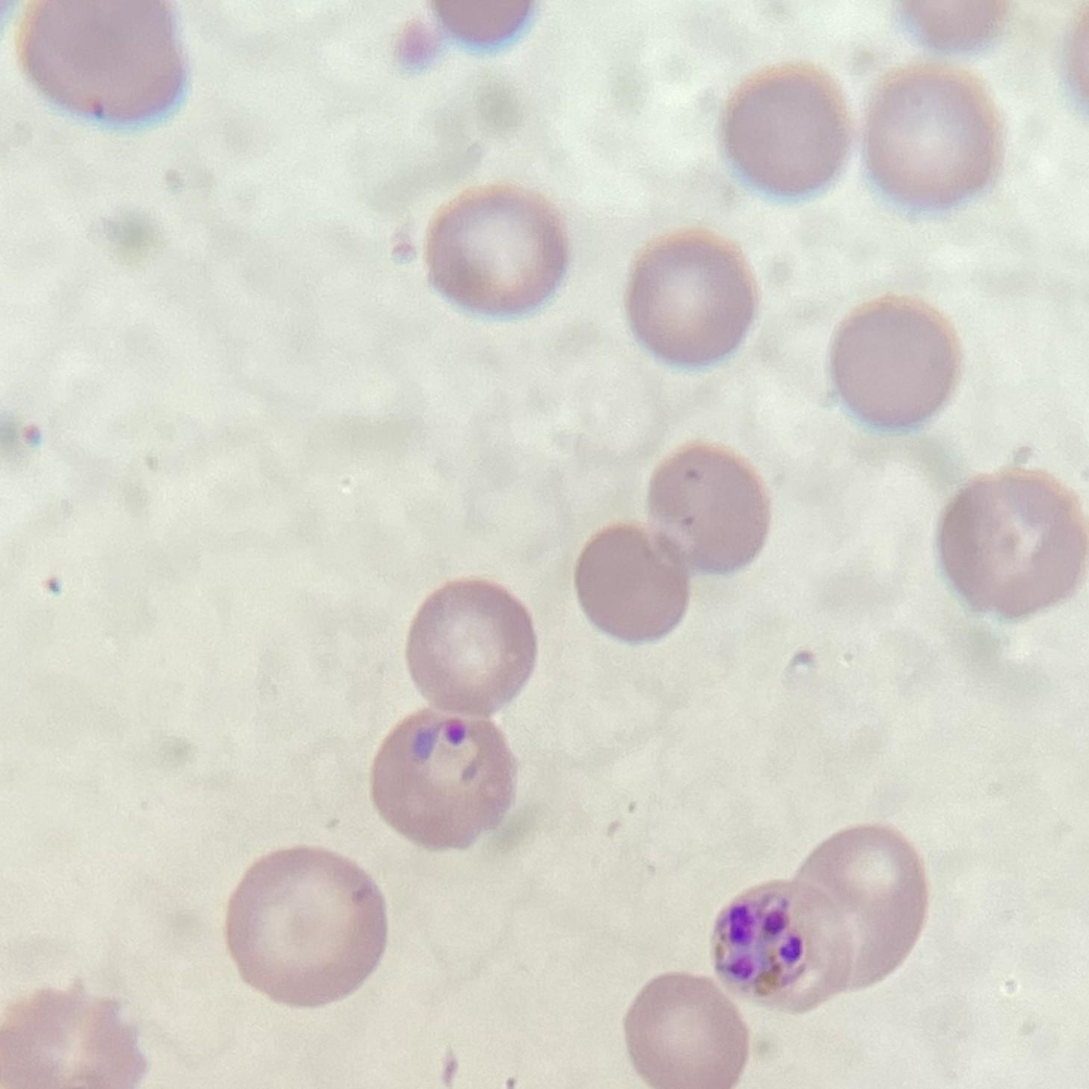Infected: (370, 711, 516, 851), (712, 887, 813, 1002)
Uninfected: (223, 846, 385, 1005), (936, 467, 1083, 618), (803, 825, 933, 987), (865, 63, 1001, 206), (424, 184, 568, 315), (625, 232, 760, 366), (720, 62, 852, 199), (405, 580, 536, 716), (646, 441, 774, 577), (832, 292, 960, 427), (623, 974, 748, 1089), (574, 524, 691, 642)
